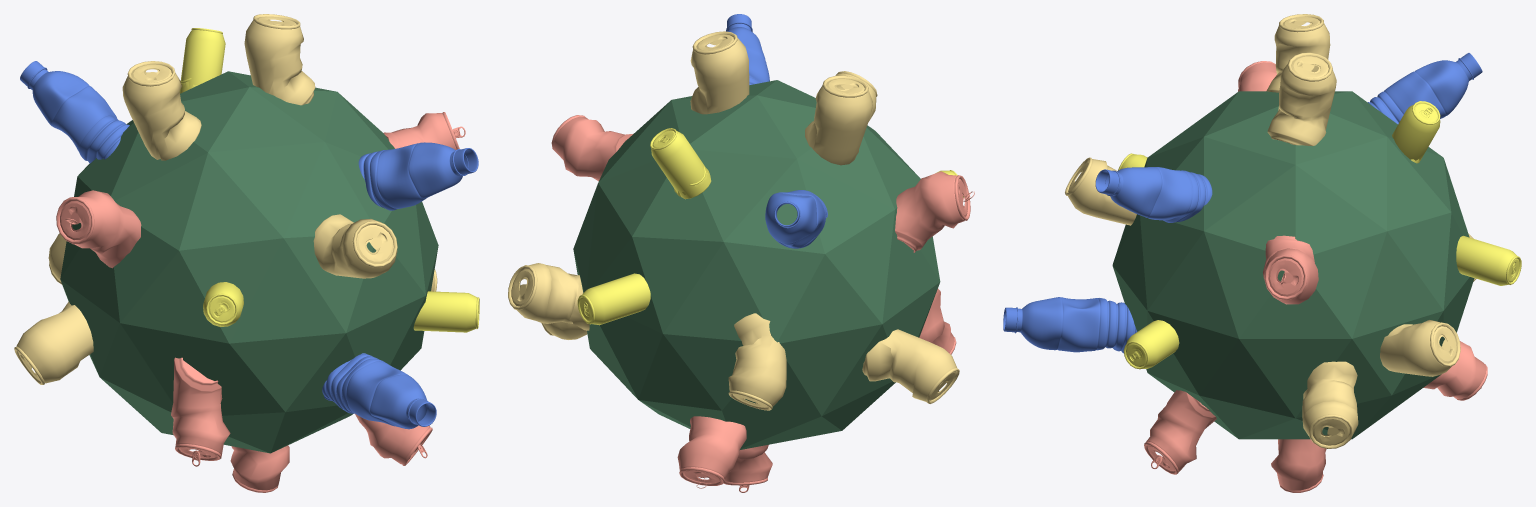
The model's file is elroid.glb.
3 renders of one model, left to right at view 1: azimuth 30°, elevation 25°; view 2: azimuth 150°, elevation 25°; view 3: azimuth 270°, elevation 25°, orthographic. The views are drawn at different scales.
Parts seen in each view (by area): view 1: Icosphere, Trash_Type_4.001, Trash_Type_4, Trash_Type_4.002, Trash_Type_1.006, Trash_Type_1.003, Trash_Type_3.005, Trash_Type_1.001, Trash_Type_3.002, Trash_Type_1, Trash_Type_2.003, Trash_Type_2.002 (+5 smaller); view 2: Icosphere, Trash_Type_1, Trash_Type_1.006, Trash_Type_1.005, Trash_Type_3.002, Trash_Type_1.003, Trash_Type_1.004, Trash_Type_3.001, Trash_Type_3, Trash_Type_2, Trash_Type_4.002, Trash_Type_2.002 (+4 smaller); view 3: Icosphere, Trash_Type_4, Trash_Type_4.001, Trash_Type_1.003, Trash_Type_1.002, Trash_Type_4.002, Trash_Type_1.004, Trash_Type_3.004, Trash_Type_3, Trash_Type_1.006, Trash_Type_3.003, Trash_Type_2 (+5 smaller).
Part boxes in pixels (x1=…): Icosphere: x1=60, y1=71, x2=438, y2=453; Trash_Type_4.001: x1=358, y1=142, x2=478, y2=210; Trash_Type_4: x1=322, y1=353, x2=436, y2=429; Trash_Type_4.002: x1=20, y1=61, x2=129, y2=163; Trash_Type_1.006: x1=122, y1=61, x2=201, y2=160; Trash_Type_1.003: x1=244, y1=14, x2=315, y2=105; Trash_Type_3.005: x1=171, y1=357, x2=230, y2=466; Trash_Type_1.001: x1=313, y1=214, x2=397, y2=278; Trash_Type_3.002: x1=56, y1=190, x2=141, y2=268; Trash_Type_1: x1=14, y1=301, x2=93, y2=384; Trash_Type_2.003: x1=413, y1=291, x2=479, y2=332; Trash_Type_2.002: x1=179, y1=28, x2=225, y2=93; Icosphere: x1=573, y1=80, x2=940, y2=449; Trash_Type_1: x1=862, y1=329, x2=959, y2=403; Trash_Type_1.006: x1=805, y1=75, x2=872, y2=165; Trash_Type_1.005: x1=728, y1=313, x2=786, y2=410; Trash_Type_3.002: x1=895, y1=171, x2=974, y2=252; Trash_Type_1.003: x1=690, y1=31, x2=749, y2=114; Trash_Type_1.004: x1=508, y1=263, x2=589, y2=330; Trash_Type_3.001: x1=677, y1=416, x2=746, y2=488; Trash_Type_3: x1=551, y1=115, x2=633, y2=181; Trash_Type_2: x1=577, y1=273, x2=650, y2=325; Trash_Type_4.002: x1=765, y1=190, x2=827, y2=248; Trash_Type_2.002: x1=650, y1=128, x2=711, y2=199; Icosphere: x1=1112, y1=91, x2=1474, y2=439; Trash_Type_4: x1=1003, y1=297, x2=1137, y2=353; Trash_Type_4.001: x1=1095, y1=167, x2=1212, y2=222; Trash_Type_1.003: x1=1267, y1=52, x2=1336, y2=146; Trash_Type_1.002: x1=1302, y1=361, x2=1358, y2=448; Trash_Type_4.002: x1=1368, y1=53, x2=1482, y2=124; Trash_Type_1.004: x1=1380, y1=320, x2=1460, y2=376; Trash_Type_3.004: x1=1144, y1=390, x2=1216, y2=474; Trash_Type_3: x1=1263, y1=235, x2=1318, y2=304; Trash_Type_1.006: x1=1266, y1=14, x2=1330, y2=92; Trash_Type_3.003: x1=1271, y1=439, x2=1326, y2=492; Trash_Type_2: x1=1456, y1=235, x2=1521, y2=285.
Size of the model in its own units: 55.92 by 58.47 by 62.19.
